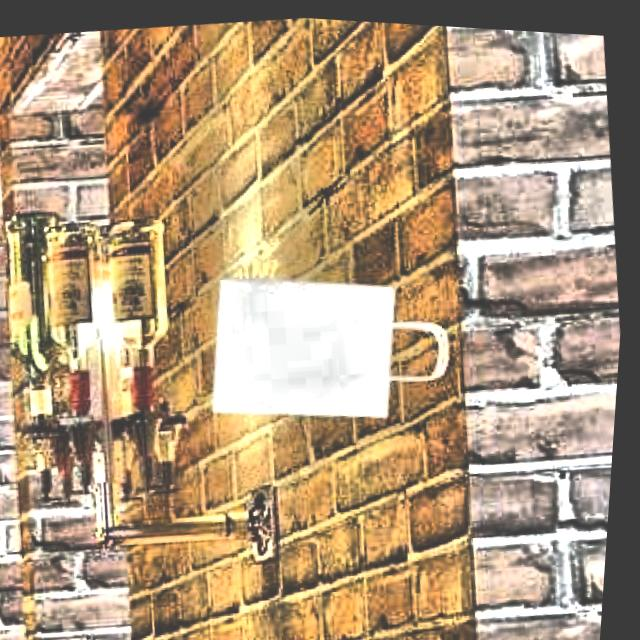Paper-bag: (171, 240, 475, 458)
